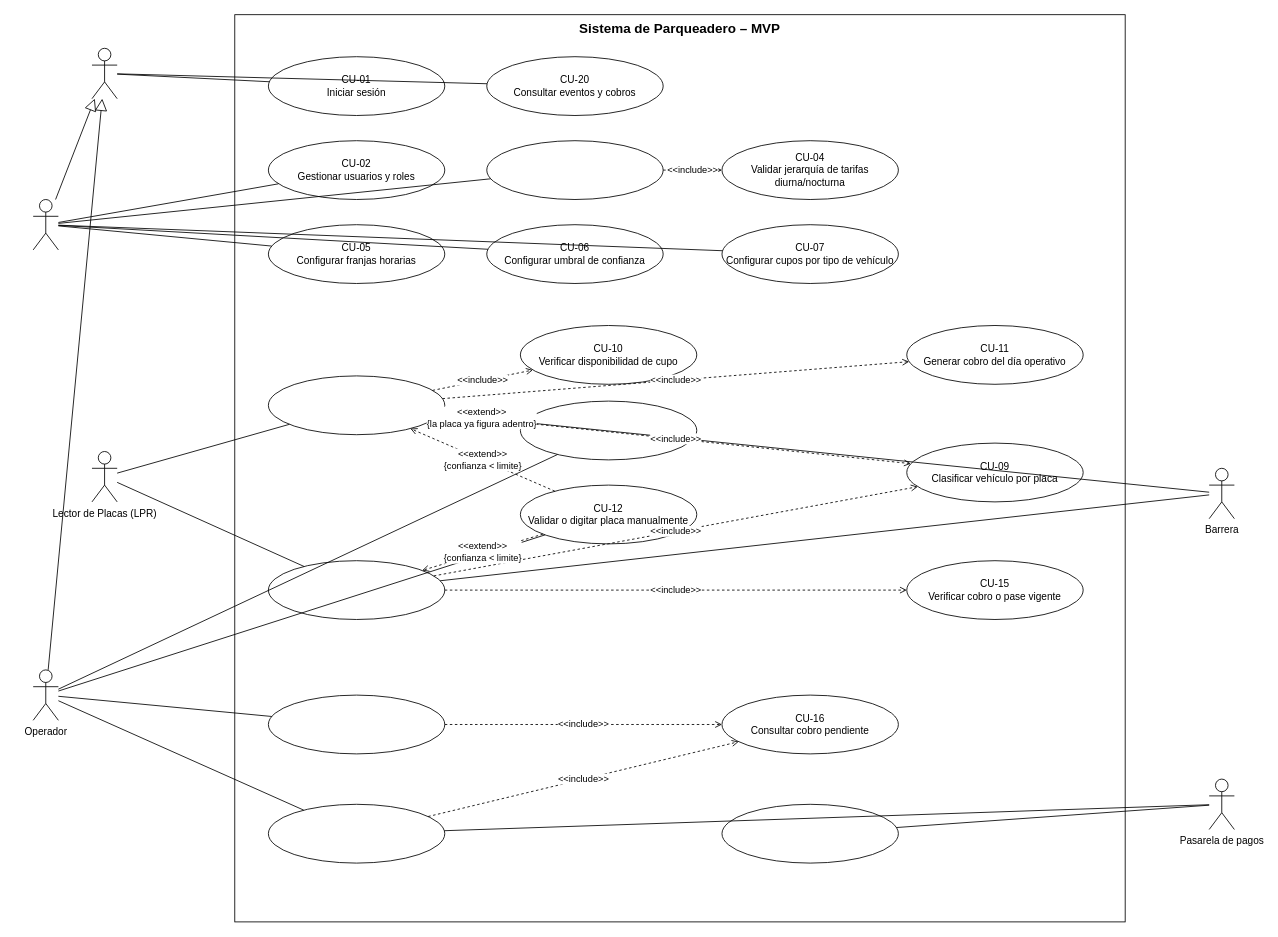
The diagram is 1278 pixels wide and 937 high, and some of its shapes have lost their labels. Each missing label, with the centre of its shape:
Administrador: [45,224]
CU-03 Configurar tarifas por tipo y franja: [574,170]
CU-08 Registrar ingreso de vehículo: [356,405]
CU-13 Alertar anti-passback: [608,430]
CU-14 Registrar salida de vehículo: [356,590]
CU-17 Registrar pago en efectivo: [356,724]
CU-18 Pagar por pasarela: [356,833]
CU-19 Confirmar pago por webhook: [809,833]
Usuario del sistema: [104,73]
